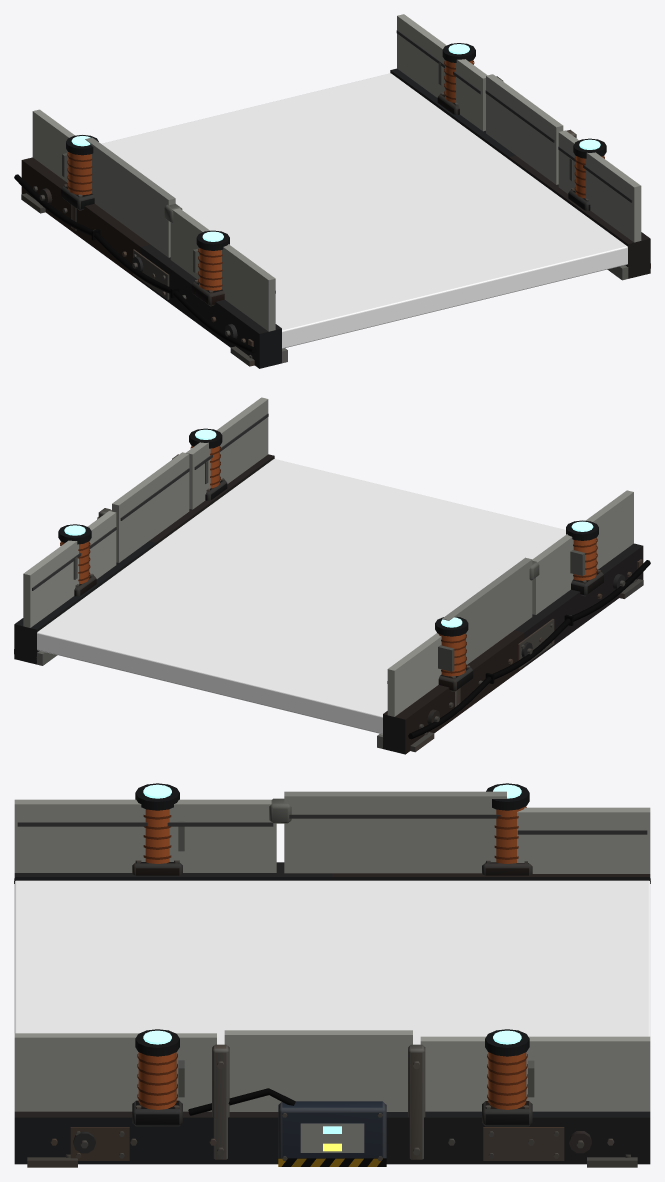
File: conveyor_mag_straight.glb
The picture shows the model from 3 angles, top to bottom: view 1: azimuth 30°, elevation 25°; view 2: azimuth 150°, elevation 25°; view 3: azimuth 270°, elevation 25°; orthographic projection. The views are drawn at different scales.
Visible parts, largest first — view 1: Belt, Body; view 2: Belt, Body; view 3: Body, Belt.
Boxes of the visible parts, box(x1,y1,x2,y2) form: Belt: box(101, 73, 627, 348); Body: box(14, 14, 650, 368); Belt: box(37, 459, 565, 734); Body: box(14, 397, 650, 754); Body: box(14, 783, 650, 1167); Belt: box(14, 880, 650, 1044).
Bounding box in the file's own units: 1.99 × 0.4298 × 2.
